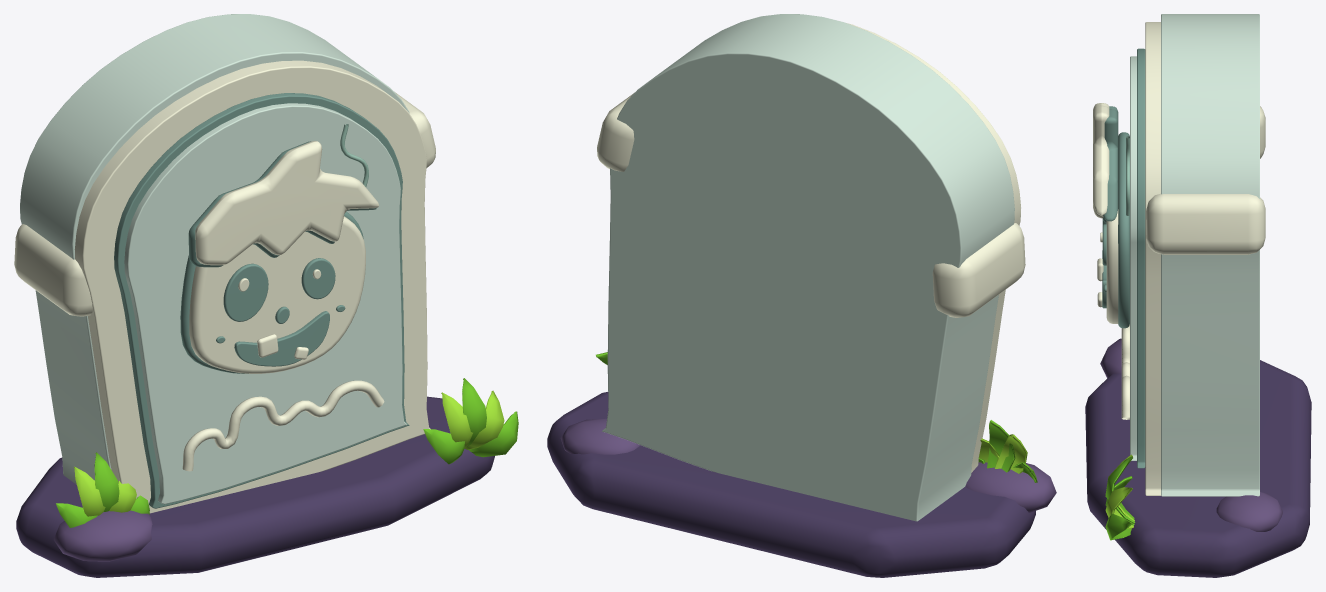
File: Grave_Marble.glb
3 views of the same model, side by side, from view 1: azimuth 30°, elevation 25°; view 2: azimuth 150°, elevation 25°; view 3: azimuth 270°, elevation 25° (orthographic). The views are drawn at different scales.
Parts seen in each view (by area): view 1: Headstone / soft inset.002, Headstone / single thick rounded rim.002, Headstone / pudgy asymmetrical body.002, Base / single soft rock.002, Face / round squishy cheeks.002, Face / floppy rounded fringe.002, Headstone / warm panel shadow.002, Shoulder / rounded tab.004, Base / little stone.004, Ornament / little puffy cloud.002, Face / happy crooked open smile.002, Face / big curious eye.002 (+11 smaller); view 2: Headstone / pudgy asymmetrical body.002, Base / single soft rock.002, Shoulder / rounded tab.004, Base / little stone.004, Headstone / single thick rounded rim.002, Base / little stone.005, Shoulder / rounded tab.005, Grass / fat curved blade.022; view 3: Headstone / pudgy asymmetrical body.002, Base / single soft rock.002, Shoulder / rounded tab.005, Headstone / single thick rounded rim.002, Headstone / warm panel shadow.002, Headstone / soft inset.002, Face / shallow outline.002, Base / little stone.005, Face / floppy rounded fringe.002, Face / floppy fringe shadow.002, Face / round squishy cheeks.002, Ornament / little puffy cloud.002 (+5 smaller).
Part boxes in pixels (x1=…): Headstone / soft inset.002: x1=124, y1=103, x2=407, y2=504; Headstone / single thick rounded rim.002: x1=74, y1=60, x2=430, y2=513; Headstone / pudgy asymmetrical body.002: x1=20, y1=14, x2=409, y2=484; Base / single soft rock.002: x1=16, y1=396, x2=494, y2=577; Face / round squishy cheeks.002: x1=189, y1=216, x2=365, y2=373; Face / floppy rounded fringe.002: x1=195, y1=141, x2=379, y2=265; Headstone / warm panel shadow.002: x1=114, y1=93, x2=409, y2=508; Shoulder / rounded tab.004: x1=14, y1=224, x2=92, y2=316; Base / little stone.004: x1=53, y1=510, x2=152, y2=561; Ornament / little puffy cloud.002: x1=182, y1=380, x2=384, y2=471; Face / happy crooked open smile.002: x1=234, y1=311, x2=329, y2=366; Face / big curious eye.002: x1=223, y1=263, x2=268, y2=321; Headstone / pudgy asymmetrical body.002: x1=602, y1=14, x2=1014, y2=521; Base / single soft rock.002: x1=547, y1=392, x2=1035, y2=577; Shoulder / rounded tab.004: x1=932, y1=223, x2=1025, y2=317; Base / little stone.004: x1=965, y1=462, x2=1056, y2=512; Headstone / single thick rounded rim.002: x1=846, y1=23, x2=1020, y2=472; Base / little stone.005: x1=560, y1=418, x2=640, y2=454; Shoulder / rounded tab.005: x1=597, y1=92, x2=634, y2=171; Grass / fat curved blade.022: x1=987, y1=420, x2=1015, y2=472; Headstone / pudgy asymmetrical body.002: x1=1161, y1=14, x2=1259, y2=496; Base / single soft rock.002: x1=1085, y1=360, x2=1311, y2=577; Shoulder / rounded tab.005: x1=1146, y1=193, x2=1265, y2=254; Headstone / single thick rounded rim.002: x1=1145, y1=22, x2=1161, y2=495; Headstone / warm panel shadow.002: x1=1137, y1=48, x2=1145, y2=468; Headstone / soft inset.002: x1=1130, y1=56, x2=1136, y2=460; Face / shallow outline.002: x1=1118, y1=132, x2=1129, y2=328; Base / little stone.005: x1=1216, y1=492, x2=1282, y2=531; Face / floppy rounded fringe.002: x1=1093, y1=103, x2=1109, y2=218; Face / floppy fringe shadow.002: x1=1102, y1=106, x2=1118, y2=222; Face / round squishy cheeks.002: x1=1106, y1=209, x2=1118, y2=323; Ornament / little puffy cloud.002: x1=1121, y1=324, x2=1129, y2=419.
Bounding box in the file's own units: 2.65 × 2.63 × 1.23.
